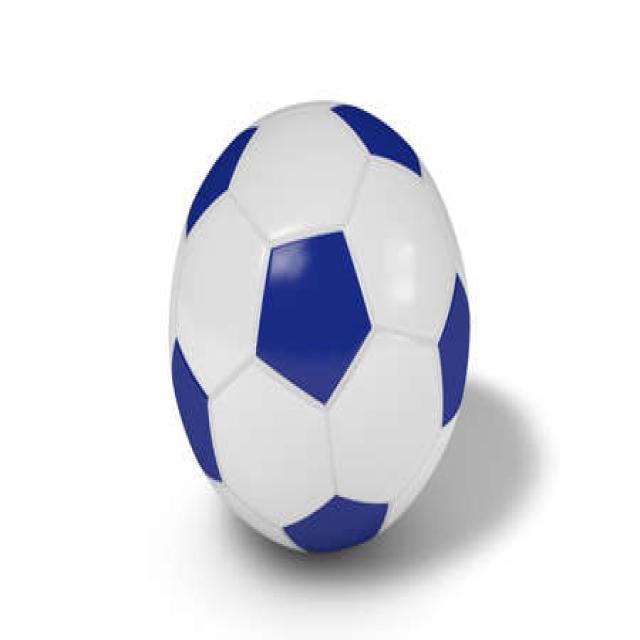soccer ball: (170, 100, 470, 555)
